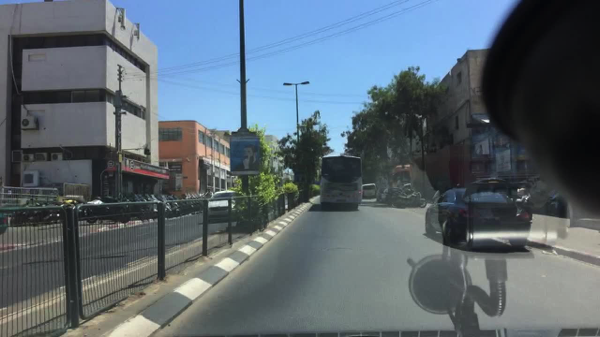car: (424, 178, 531, 249), (207, 190, 241, 222), (359, 183, 376, 199), (1, 212, 7, 234), (379, 188, 389, 201)
motor: (82, 197, 130, 223), (384, 184, 417, 206), (53, 198, 81, 223), (18, 202, 47, 225), (389, 189, 421, 208), (10, 201, 34, 226), (131, 194, 154, 220), (32, 201, 59, 223), (391, 192, 425, 208), (143, 194, 167, 216), (138, 193, 158, 218), (150, 194, 172, 215), (44, 202, 65, 224), (122, 196, 142, 219), (177, 195, 198, 215), (156, 195, 175, 217), (171, 196, 191, 213), (165, 197, 182, 215), (184, 195, 203, 208), (191, 195, 202, 208), (194, 195, 203, 204), (198, 194, 205, 199), (202, 192, 207, 198)
person: (207, 189, 213, 199)
